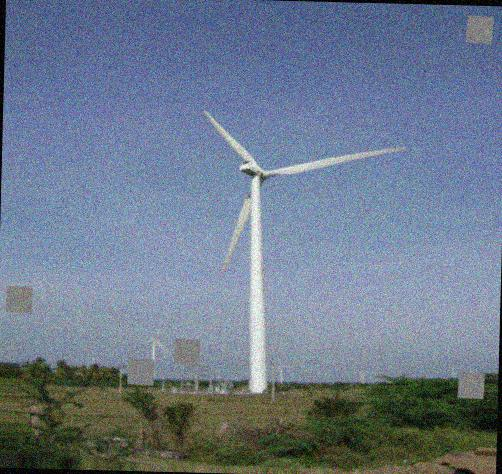wind turbine: (200, 106, 410, 387)
